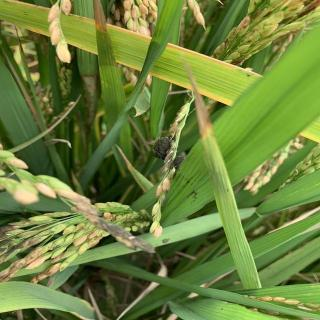Gosong-Palsu: (152, 136, 186, 166)
